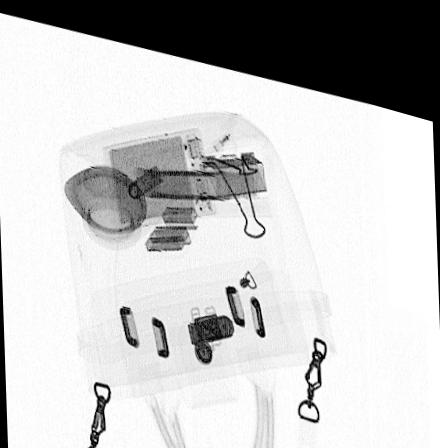Powerbank: (100, 114, 216, 220)
